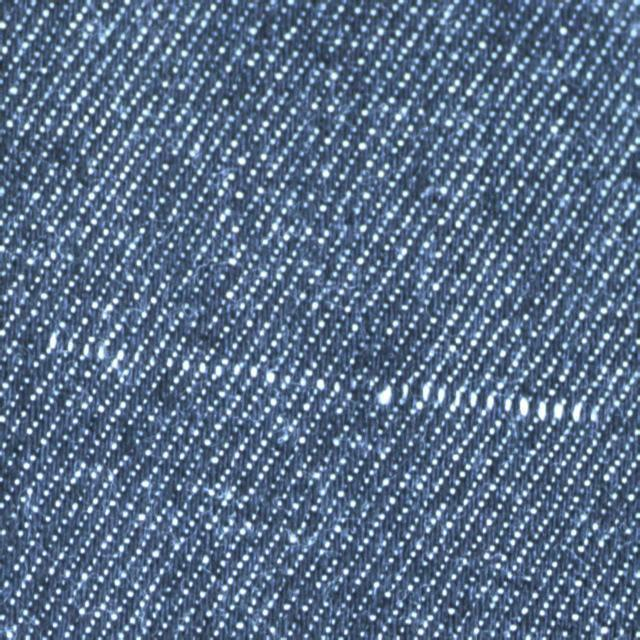pulled_or_thick_thread: (325, 383, 604, 430)
